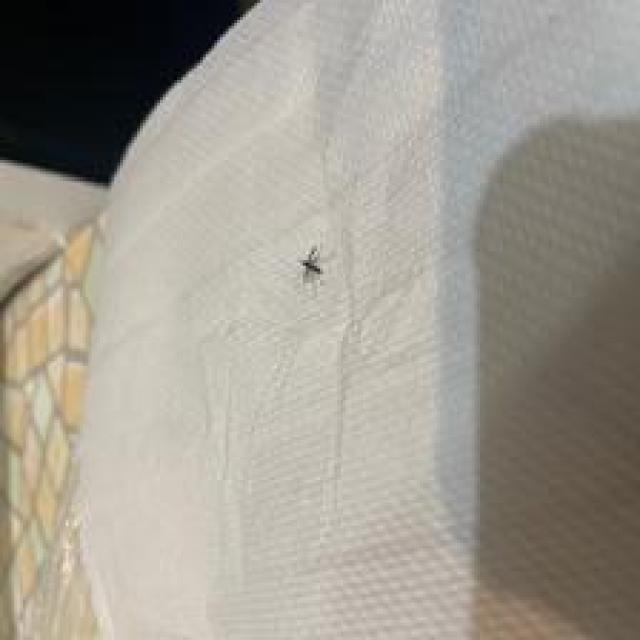Aedes albopictus: (299, 244, 324, 279)
